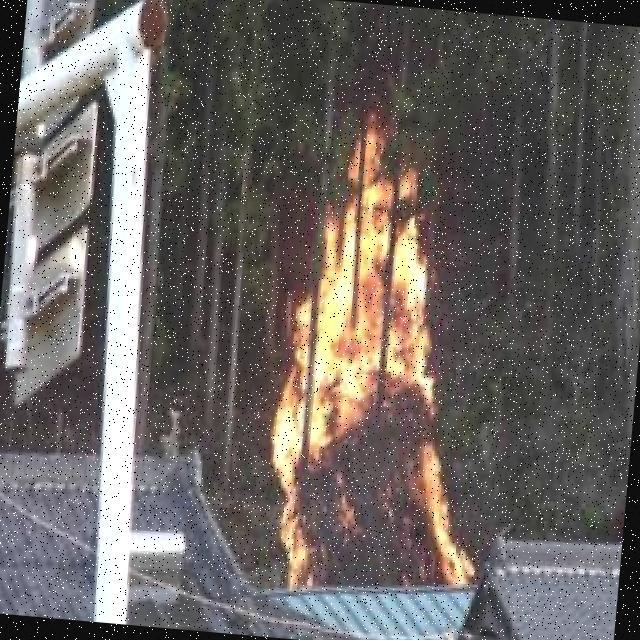Fire: (255, 130, 507, 598)
